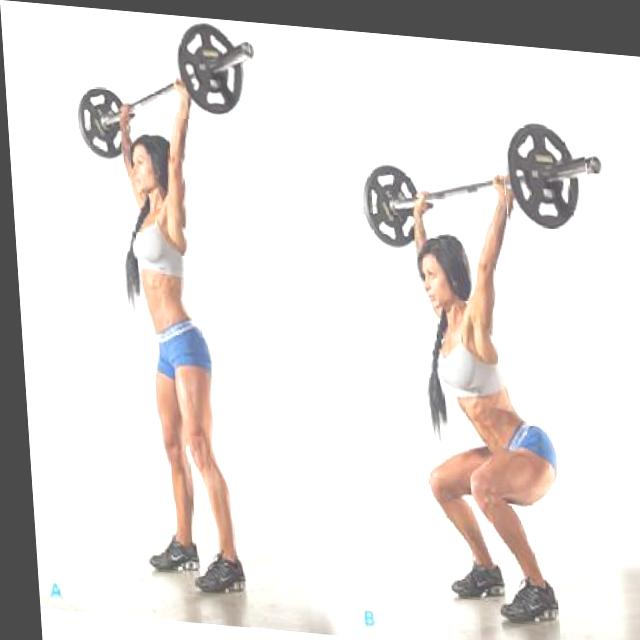barbell: (498, 106, 592, 234), (171, 15, 256, 121)
